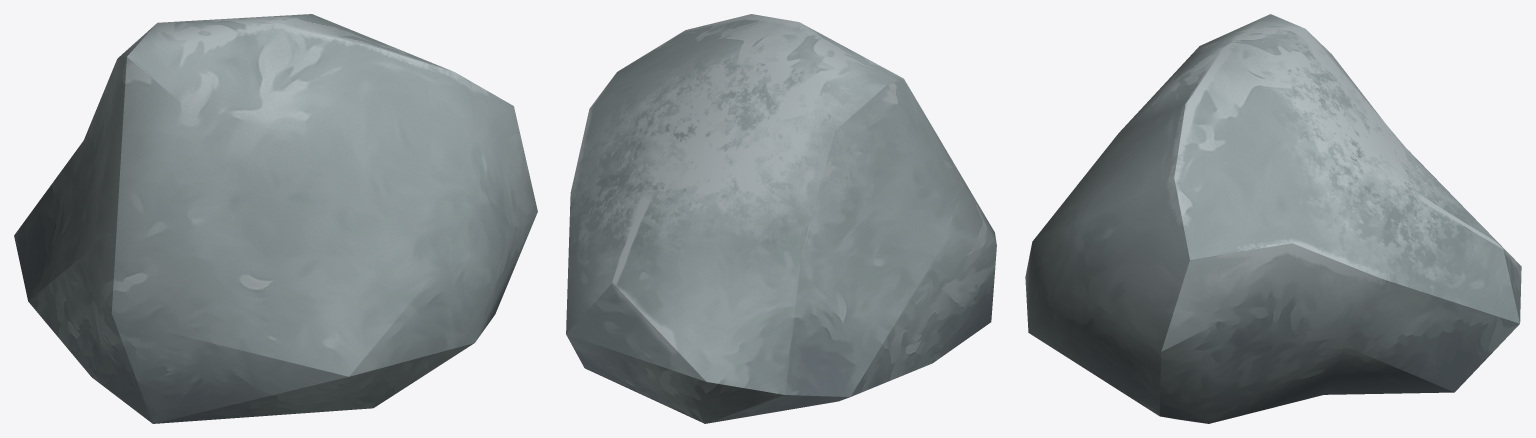
Rendered from kamien_4.obj.
3 renders of one model, left to right at view 1: azimuth 30°, elevation 25°; view 2: azimuth 150°, elevation 25°; view 3: azimuth 270°, elevation 25°, orthographic. The views are drawn at different scales.
Visible parts, largest first — view 1: rock.011; view 2: rock.011; view 3: rock.011.
Boxes of the visible parts, <box> form: rock.011: <box>14,14,537,423</box>; rock.011: <box>566,14,996,423</box>; rock.011: <box>1025,14,1521,423</box>.
Size of the model in its own units: 9.29 by 7.13 by 10.27.
1 material, 1 textured.
